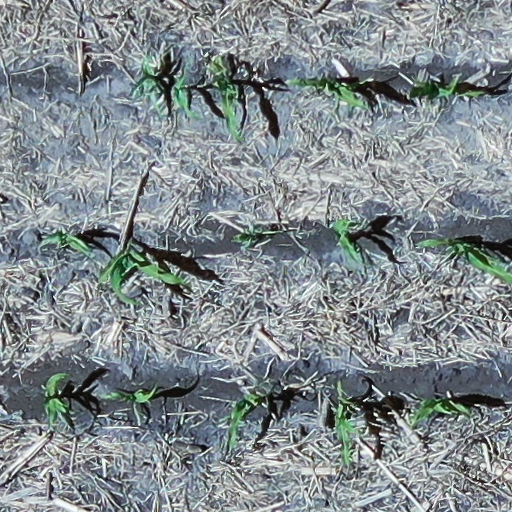planta: (98, 247, 187, 306), (210, 57, 254, 141), (290, 77, 368, 110), (225, 391, 262, 456), (334, 383, 358, 473), (135, 58, 164, 121), (411, 397, 472, 425), (43, 372, 70, 434), (172, 74, 207, 119), (332, 218, 363, 264), (411, 79, 482, 98), (37, 231, 90, 255), (104, 383, 158, 404)
